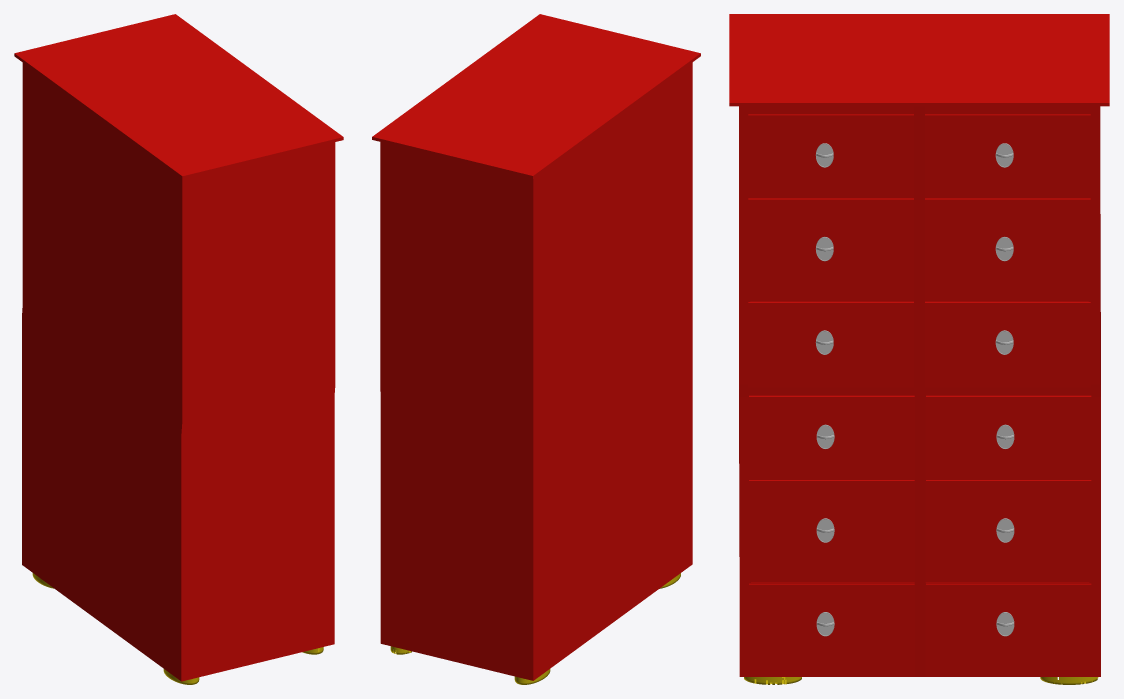
Rendered from FileCabinet.fbx.
3 renders of one model, left to right at view 1: azimuth 30°, elevation 25°; view 2: azimuth 150°, elevation 25°; view 3: azimuth 270°, elevation 25°, orthographic. The views are drawn at different scales.
Visible parts, largest first — view 1: Cube; view 2: Cube; view 3: Cube.
Part boxes in pixels (x1,y1,x2,y2): Cube: (14, 14, 343, 684); Cube: (372, 14, 700, 684); Cube: (729, 14, 1109, 684).
Bounding box in the file's own units: 119 × 358 × 211.
